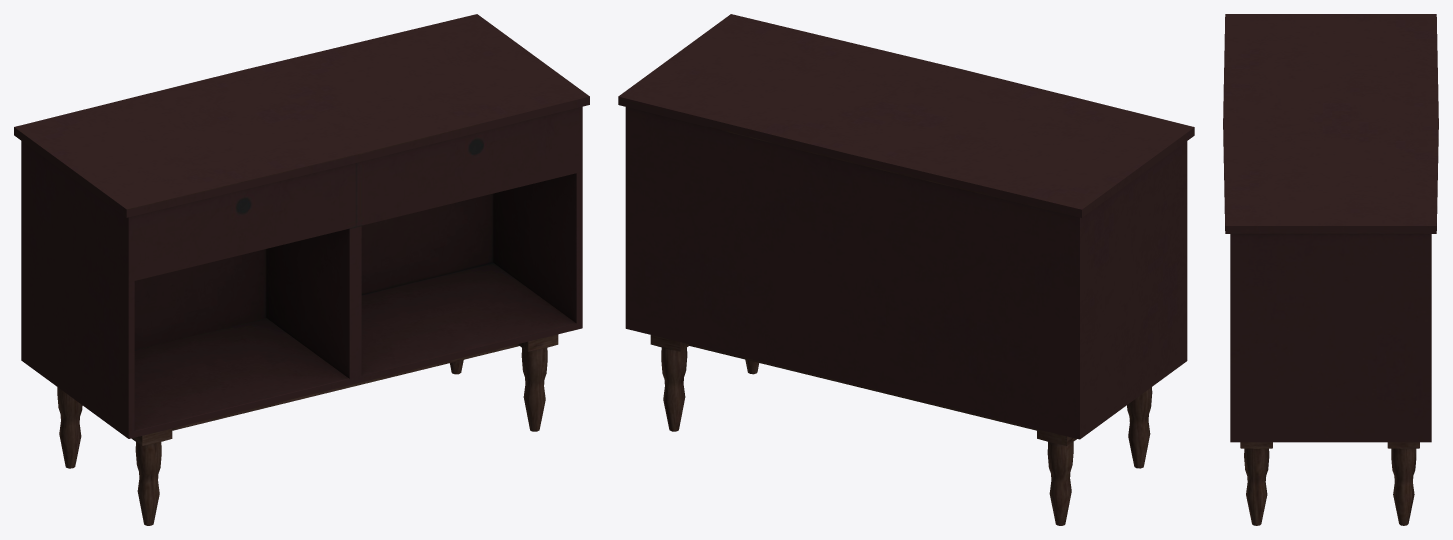
The model's file is CabinetShort.fbx.
3 renders of one model, left to right at view 1: azimuth 30°, elevation 25°; view 2: azimuth 150°, elevation 25°; view 3: azimuth 270°, elevation 25°, orthographic. The views are drawn at different scales.
Parts seen in each view (by area): view 1: CabinetShort; view 2: CabinetShort; view 3: CabinetShort.
Boxes of the visible parts, x1,y1,x2,y2 form: CabinetShort: (14, 14, 589, 525); CabinetShort: (618, 14, 1194, 525); CabinetShort: (1223, 14, 1438, 525).
Size of the model in its own units: 199 by 138 by 85.68.
Materials: 1 (1 with a texture image).
